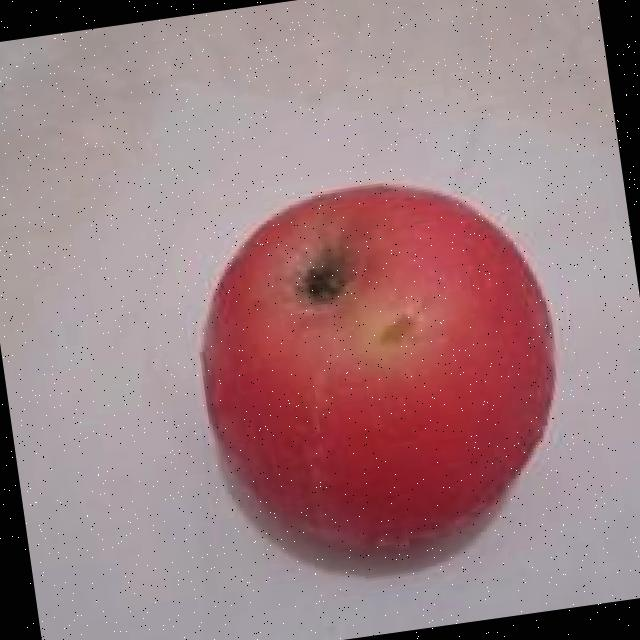apple: (147, 135, 626, 622)
